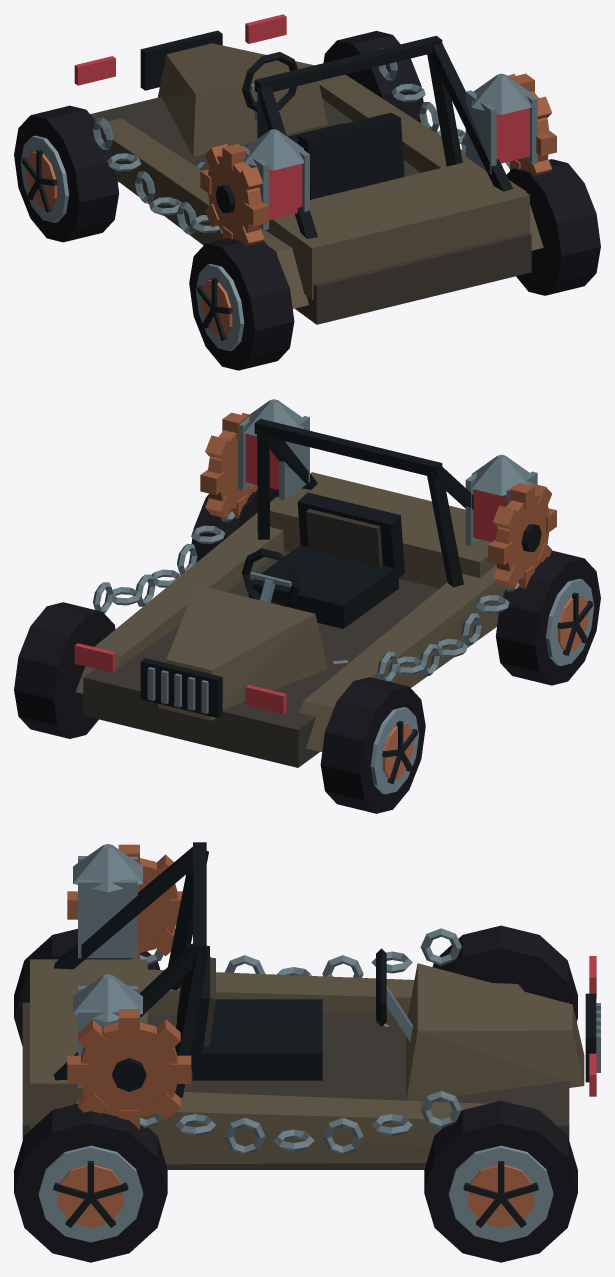
Rendered from kart.glb.
3 views of the same model, one above another, from view 1: azimuth 30°, elevation 25°; view 2: azimuth 150°, elevation 25°; view 3: azimuth 270°, elevation 25° (orthographic). The views are drawn at different scales.
Visible parts, largest first — view 1: identity-buggy-buggy-offroad-frame, wheel-rear-left, wheel-front-left, identity-buggy-motif-lanterns, wheel-rear-right, identity-buggy-driver-cockpit, identity-buggy-motif-gears, identity-buggy-motif-chains, wheel-front-right; view 2: identity-buggy-buggy-offroad-frame, identity-buggy-driver-cockpit, wheel-front-left, wheel-rear-left, wheel-front-right, identity-buggy-motif-gears, identity-buggy-motif-lanterns, identity-buggy-motif-chains, wheel-rear-right; view 3: identity-buggy-buggy-offroad-frame, wheel-front-right, wheel-rear-right, identity-buggy-motif-gears, identity-buggy-driver-cockpit, identity-buggy-motif-lanterns, identity-buggy-motif-chains, wheel-front-left, wheel-rear-left.
Boxes of the visible parts, box(x1,y1,x2,y2) form: identity-buggy-buggy-offroad-frame: box(74, 14, 543, 324); wheel-rear-left: box(189, 238, 294, 370); wheel-front-left: box(14, 105, 119, 242); identity-buggy-motif-lanterns: box(242, 73, 537, 230); wheel-rear-right: box(507, 159, 600, 295); identity-buggy-driver-cockpit: box(242, 52, 404, 199); identity-buggy-motif-gears: box(200, 73, 556, 245); identity-buggy-motif-chains: box(93, 48, 509, 234); wheel-front-right: box(323, 31, 423, 122); identity-buggy-buggy-offroad-frame: box(74, 419, 505, 767); identity-buggy-driver-cockpit: box(242, 492, 404, 628); wheel-front-left: box(320, 677, 425, 813); wheel-rear-left: box(495, 550, 600, 685); wheel-front-right: box(14, 602, 115, 738); identity-buggy-motif-gears: box(200, 412, 556, 588); identity-buggy-motif-lanterns: box(238, 399, 537, 545); identity-buggy-motif-chains: box(93, 511, 519, 681); wheel-rear-right: box(189, 488, 278, 562); identity-buggy-buggy-offroad-frame: box(22, 842, 600, 1169); wheel-front-right: box(424, 1100, 577, 1262); wheel-rear-right: box(14, 1104, 167, 1262); identity-buggy-motif-gears: box(67, 844, 191, 1129); identity-buggy-driver-cockpit: box(177, 943, 412, 1080); identity-buggy-motif-lanterns: box(73, 844, 142, 1088); identity-buggy-motif-chains: box(140, 928, 461, 1154); wheel-front-left: box(432, 925, 577, 1021); wheel-rear-left: box(14, 928, 160, 1046).
Bounding box in the file's own units: 2.31 × 1.39 × 2.75.
